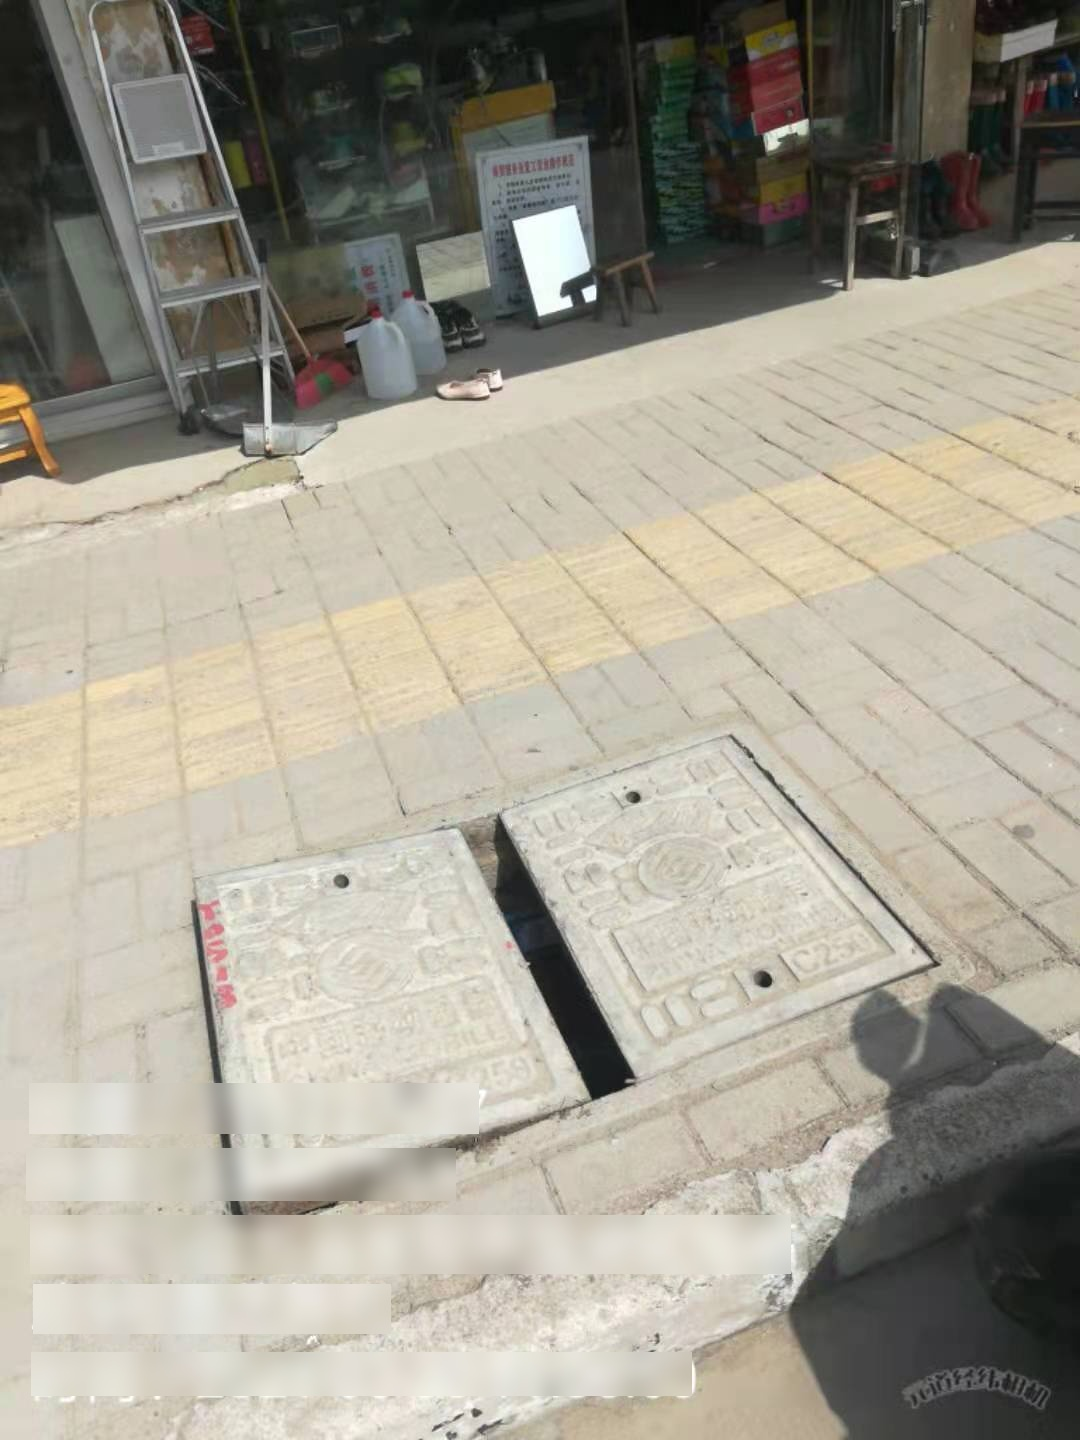uncovered: (191, 729, 940, 1229)
